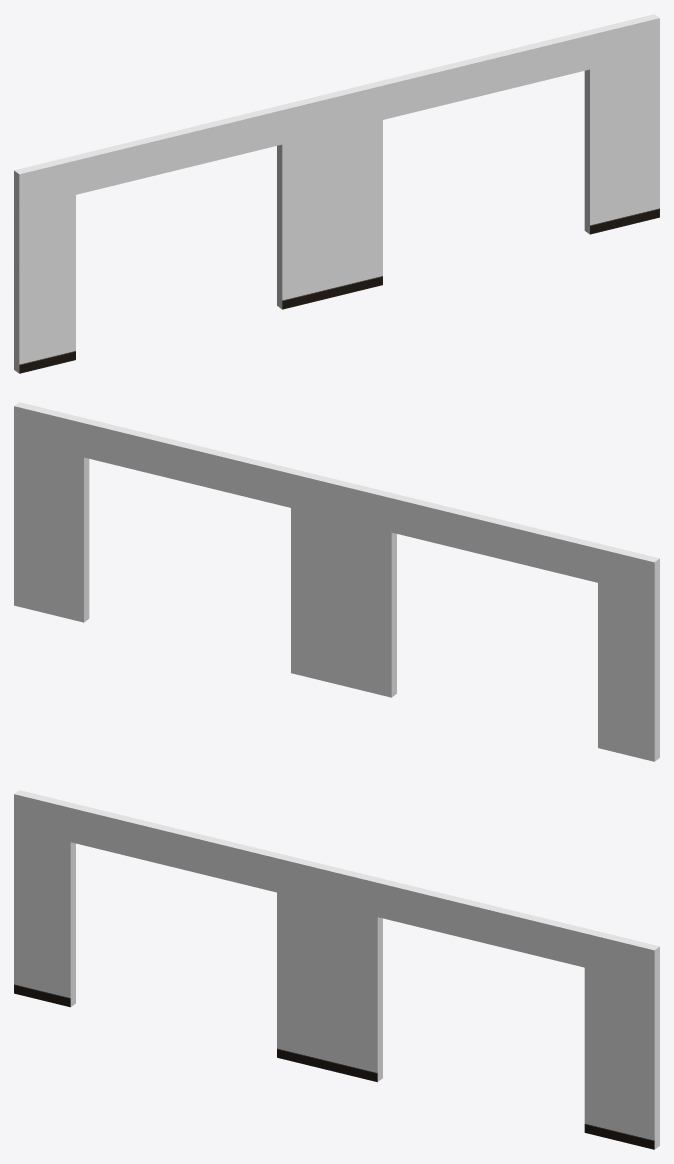
The model's file is Wall 3.FBX.
3 renders of one model, top to bottom at view 1: azimuth 30°, elevation 25°; view 2: azimuth 150°, elevation 25°; view 3: azimuth 330°, elevation 25°, orthographic.
Visible parts, largest first — view 1: Wall 3; view 2: Wall 3; view 3: Wall 3.
Boxes of the visible parts, <box> form: Wall 3: <box>14,14,659,373</box>; Wall 3: <box>14,402,659,761</box>; Wall 3: <box>14,790,659,1149</box>.
Bounding box in the file's own units: 892 × 265 × 13.23.
